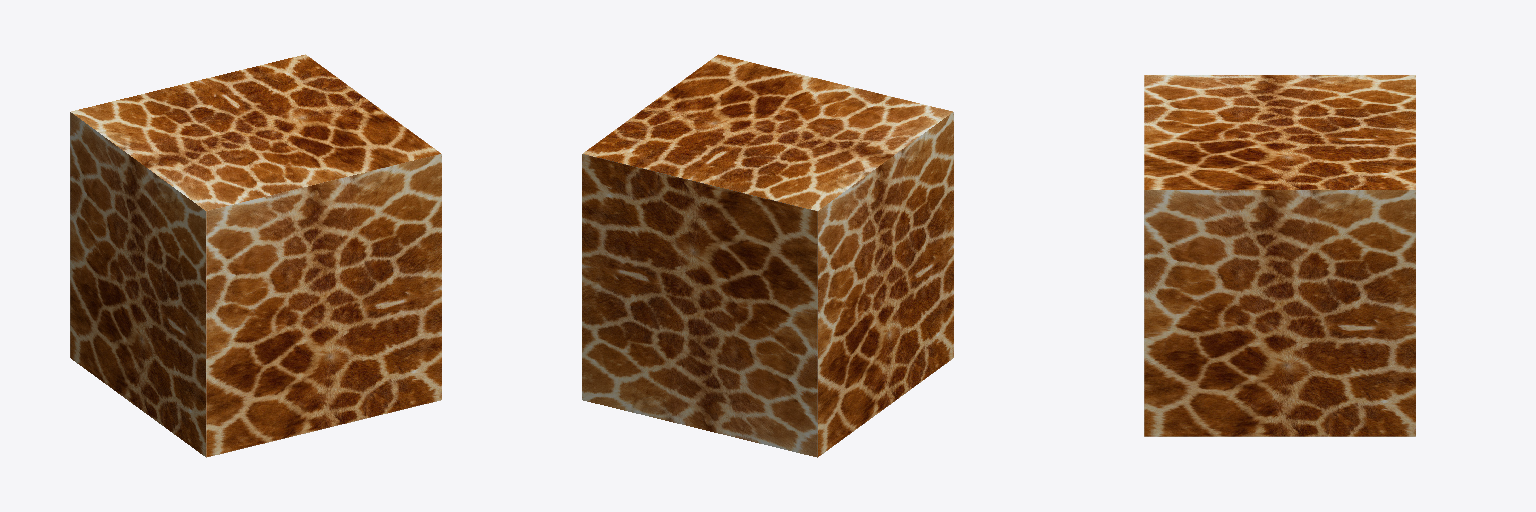
3 views of the same model, side by side, from view 1: azimuth 30°, elevation 25°; view 2: azimuth 150°, elevation 25°; view 3: azimuth 270°, elevation 25° (orthographic).
Visible parts, largest first — view 1: Cube; view 2: Cube; view 3: Cube.
Part boxes in pixels (x1,y1,x2,y2): Cube: (70, 54, 441, 457); Cube: (582, 54, 953, 457); Cube: (1144, 75, 1415, 436).
Bounding box in the file's own units: 0.1 × 0.1 × 0.1.
1 materials, 1 textured.